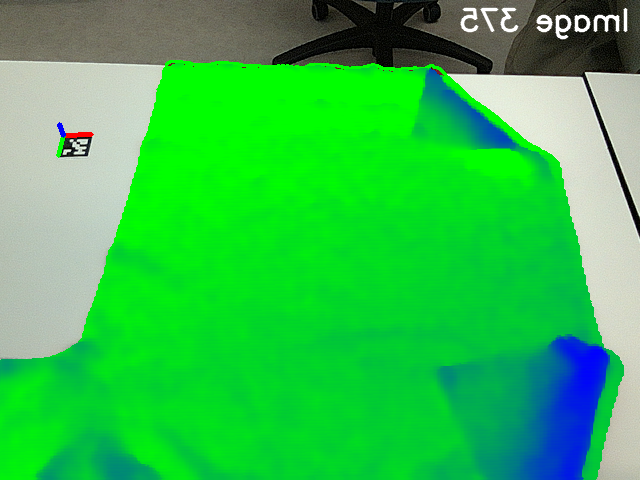V: (422, 344, 497, 412), (395, 100, 454, 155)
